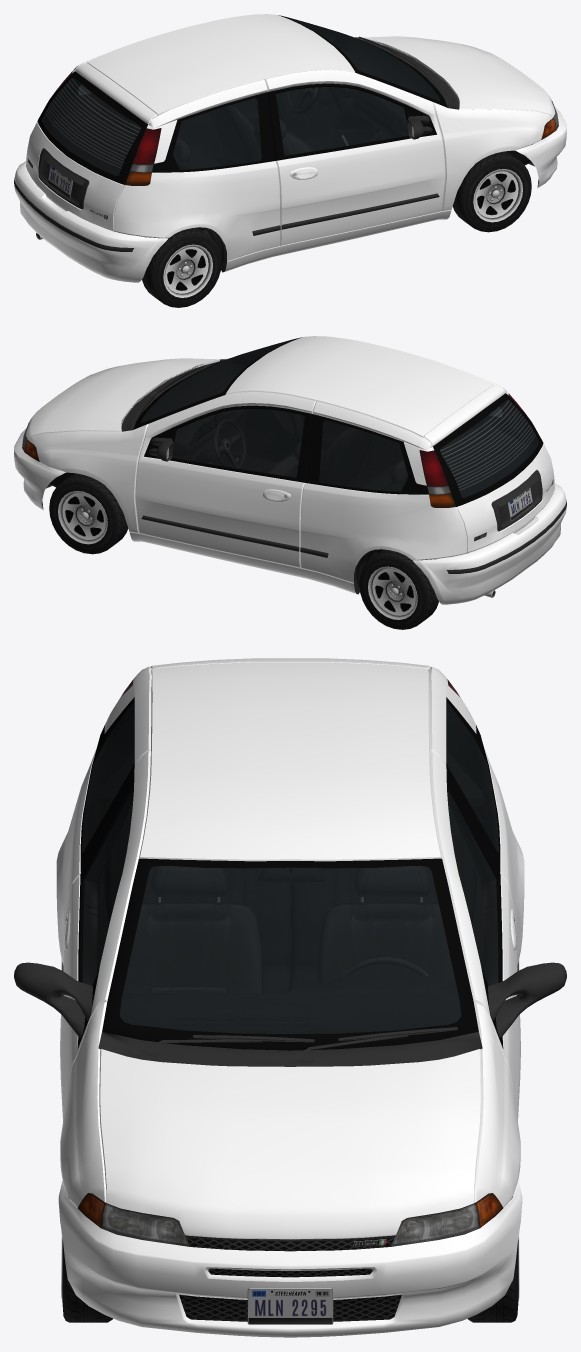
The model's file is MILANO95.fbx.
3 renders of one model, top to bottom at view 1: azimuth 30°, elevation 25°; view 2: azimuth 150°, elevation 25°; view 3: azimuth 270°, elevation 25°, orthographic. The views are drawn at different scales.
Parts seen in each view (by area): view 1: Milano95_Body, Milano95_StockKit, Milano95_interior, Milano95_Bottom, Milano95_Glass_Passanger, Milano95_Hood, Milano95_Bumper_rear, Milano95_Glass_Rear, Milano95_Glass, Milano95_WheelStock_FR, Milano95_WheelStock_RR, Milano95_Windshield (+7 smaller); view 2: Milano95_Body, Milano95_StockKit, Milano95_interior, Milano95_Bottom, Milano95_Glass_Driver, Milano95_Hood, Milano95_Bumper_rear, Milano95_Glass_Rear, Milano95_Glass, Milano95_WheelStock_FL, Milano95_WheelStock_RL, Milano95_Windshield (+7 smaller); view 3: Milano95_Body, Milano95_interior, Milano95_Hood, Milano95_Windshield, Milano95_Bottom, Milano95_Bumper_front, Milano95_StockKit, Milano95_Glass, Milano95_Headlights_Glass, Milano95_Glass_Driver, Milano95_Glass_Passanger, Milano95_Headlights (+5 smaller).
Part boxes in pixels (box(x1,y1,x2,y2)): Milano95_Body: box(26, 14, 445, 245); Milano95_StockKit: box(26, 36, 552, 271); Milano95_interior: box(42, 19, 439, 175); Milano95_Bottom: box(37, 15, 541, 272); Milano95_Glass_Passanger: box(276, 87, 408, 155); Milano95_Hood: box(361, 36, 555, 117); Milano95_Bumper_rear: box(14, 161, 167, 282); Milano95_Glass_Rear: box(41, 78, 140, 175); Milano95_Glass: box(79, 85, 261, 169); Milano95_WheelStock_FR: box(452, 151, 531, 232); Milano95_WheelStock_RR: box(142, 227, 221, 307); Milano95_Windshield: box(288, 18, 440, 100); Milano95_Body: box(135, 336, 554, 567); Milano95_StockKit: box(28, 358, 554, 593); Milano95_interior: box(141, 341, 538, 497); Milano95_Bottom: box(39, 337, 543, 594); Milano95_Glass_Driver: box(172, 409, 304, 477); Milano95_Hood: box(25, 358, 219, 439); Milano95_Bumper_rear: box(413, 483, 566, 604); Milano95_Glass_Rear: box(440, 400, 539, 497); Milano95_Glass: box(319, 407, 501, 491); Milano95_WheelStock_FL: box(49, 473, 128, 554); Milano95_WheelStock_RL: box(359, 549, 438, 629); Milano95_Windshield: box(140, 340, 292, 422); Milano95_Body: box(60, 662, 520, 1121); Milano95_interior: box(82, 703, 498, 1033); Milano95_Hood: box(99, 1049, 481, 1239); Milano95_Windshield: box(119, 866, 461, 1033); Milano95_Bottom: box(14, 697, 566, 1251); Milano95_Bumper_front: box(58, 1180, 522, 1337); Milano95_StockKit: box(56, 658, 524, 1207); Milano95_Glass: box(82, 702, 498, 852); Milano95_Headlights_Glass: box(77, 1193, 503, 1246); Milano95_Glass_Driver: box(447, 788, 498, 985); Milano95_Glass_Passanger: box(82, 788, 133, 985); Milano95_Headlights: box(101, 1203, 479, 1246).
Size of the model in its own units: 3.85 by 1.43 by 1.93.
